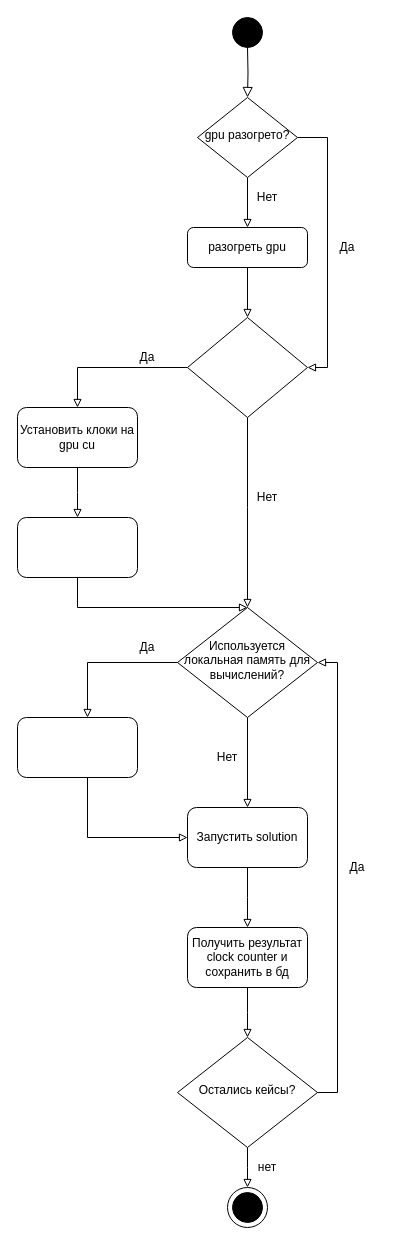
The diagram is 395 pixels wide and 1245 high, and some of its shapes have lost their labels. The centre of each missing label's shape, as x and y in pixels:
В параметрах указан диапазон частот клоков?: [247,367]
Запустить "пустышку" для очистки кэша локальной памяти: [77,747]
Установить клоки gpu memory: [77,547]
